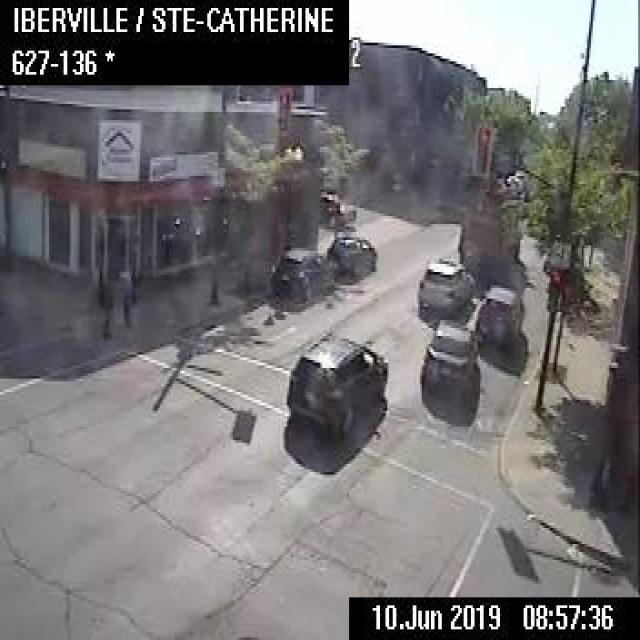pedestrian: (96, 271, 115, 338), (118, 266, 131, 324)
vehicle: (284, 328, 389, 437), (414, 319, 480, 400), (459, 190, 520, 276), (267, 248, 336, 302), (414, 258, 473, 320), (472, 282, 524, 346), (326, 233, 375, 281), (319, 190, 356, 230)
